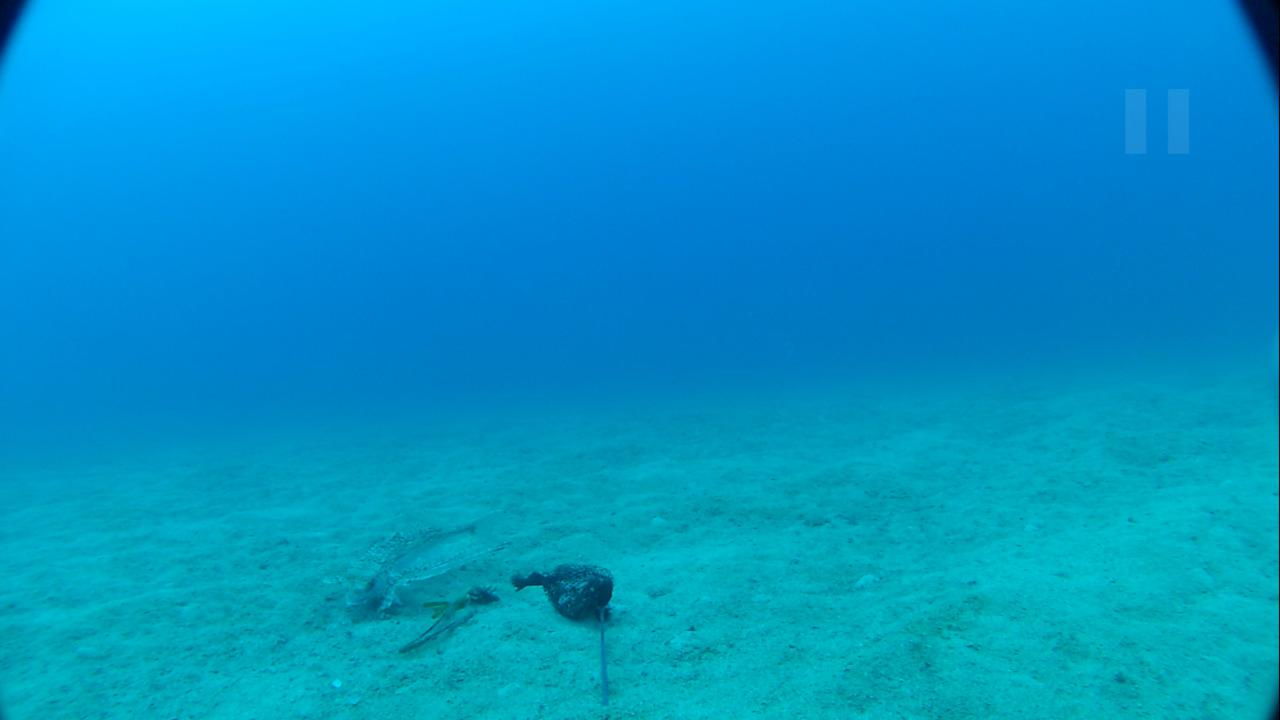dactylopterus: (341, 518, 495, 610)
